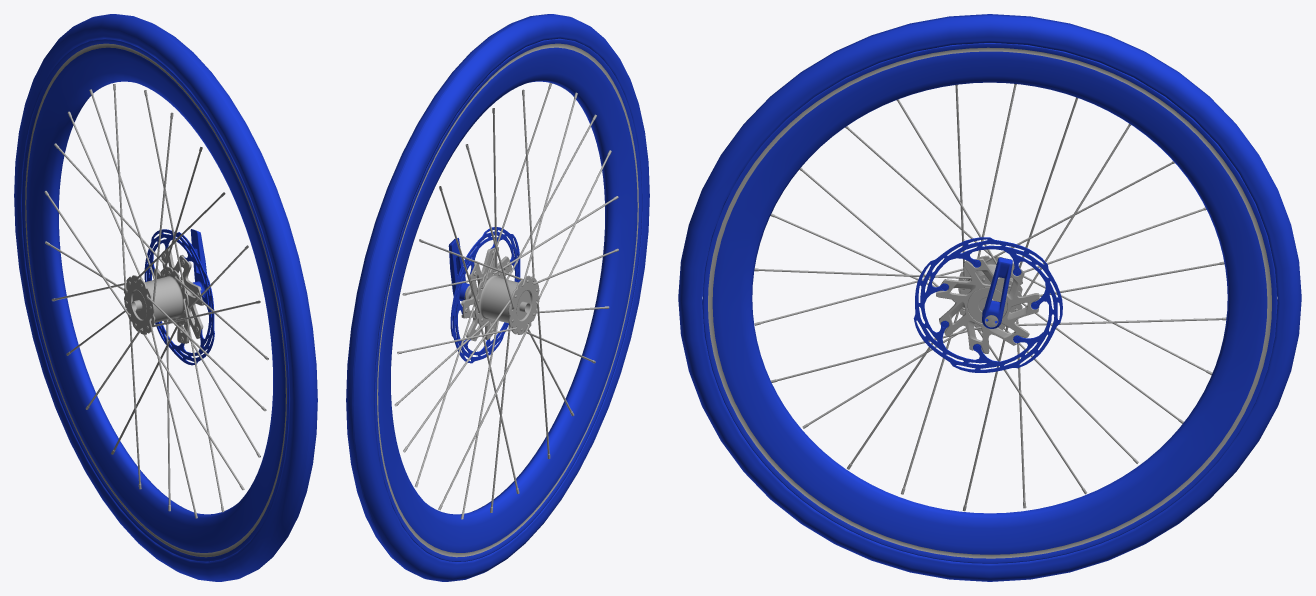
The model's file is Roadbike_Wheel.glb.
3 renders of one model, left to right at view 1: azimuth 30°, elevation 25°; view 2: azimuth 150°, elevation 25°; view 3: azimuth 270°, elevation 25°, orthographic. The views are drawn at different scales.
Visible parts, largest first — view 1: RIM.002, TIRE.002, MOVEMENT.001; view 2: RIM.002, TIRE.002, MOVEMENT.001; view 3: RIM.002, TIRE.002, MOVEMENT.001.
Boxes of the visible parts, x1,y1,x2,y2 form: RIM.002: (21, 38, 289, 561); TIRE.002: (14, 14, 317, 581); MOVEMENT.001: (44, 84, 268, 518); RIM.002: (374, 38, 642, 561); TIRE.002: (346, 14, 649, 581); MOVEMENT.001: (394, 82, 618, 519); RIM.002: (703, 43, 1276, 563); TIRE.002: (678, 14, 1301, 581); MOVEMENT.001: (754, 84, 1226, 511).
Bounding box in the file's own units: 0.492 × 3.45 × 3.45.
